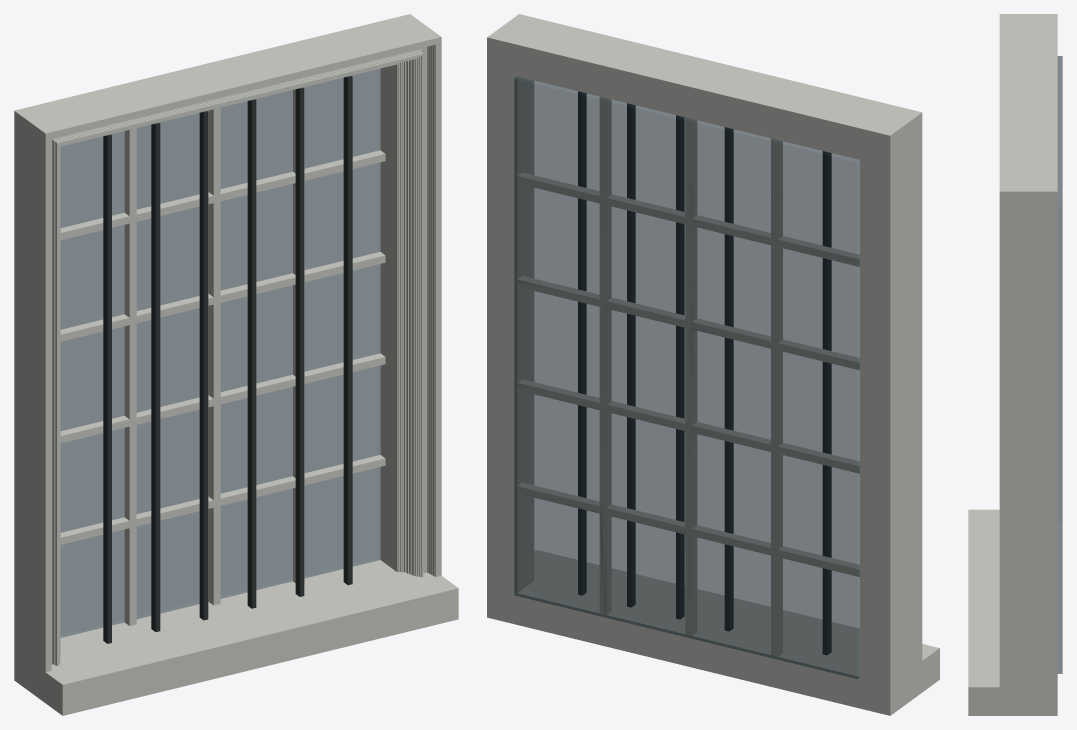
File: republicano_rectangle_con_reja.glb
3 renders of one model, left to right at view 1: azimuth 30°, elevation 25°; view 2: azimuth 150°, elevation 25°; view 3: azimuth 270°, elevation 25°, orthographic. The views are drawn at different scales.
Visible parts, largest first — view 1: window_glass#0001, window_grille#0001, window_mullion#0001, window_sill#0001, window_reveal#0001, window_profile#0028, window_profile#0001, window_profile#0025, window_profile#0027, window_profile#0009, window_profile#0026, window_profile#0013 (+21 smaller); view 2: window_glass#0001, window_reveal#0001, window_mullion#0001, window_grille#0001, window_profile#0028, window_sill#0001, window_profile#0001; view 3: window_profile#0028, window_reveal#0001, window_sill#0001, window_glass#0001.
Part boxes in pixels (x1,y1,x2,y2): window_glass#0001: [60, 69, 380, 637]; window_grille#0001: [103, 76, 352, 643]; window_mullion#0001: [60, 87, 385, 625]; window_sill#0001: [22, 567, 458, 715]; window_reveal#0001: [14, 14, 422, 686]; window_profile#0028: [25, 22, 441, 702]; window_profile#0001: [60, 63, 398, 653]; window_profile#0025: [50, 43, 437, 671]; window_profile#0027: [47, 39, 439, 671]; window_profile#0009: [59, 58, 416, 662]; window_profile#0026: [48, 41, 438, 671]; window_profile#0013: [56, 53, 423, 665]; window_glass#0001: [514, 76, 859, 678]; window_reveal#0001: [487, 28, 903, 715]; window_mullion#0001: [517, 96, 859, 656]; window_grille#0001: [578, 91, 831, 654]; window_profile#0028: [499, 14, 922, 702]; window_sill#0001: [532, 550, 939, 709]; window_profile#0001: [529, 79, 661, 614]; window_profile#0028: [999, 14, 1036, 715]; window_reveal#0001: [1033, 14, 1057, 715]; window_sill#0001: [968, 509, 1041, 715]; window_glass#0001: [1057, 56, 1062, 673].
Size of the model in its own units: 1.6 by 2.2 by 0.36.
